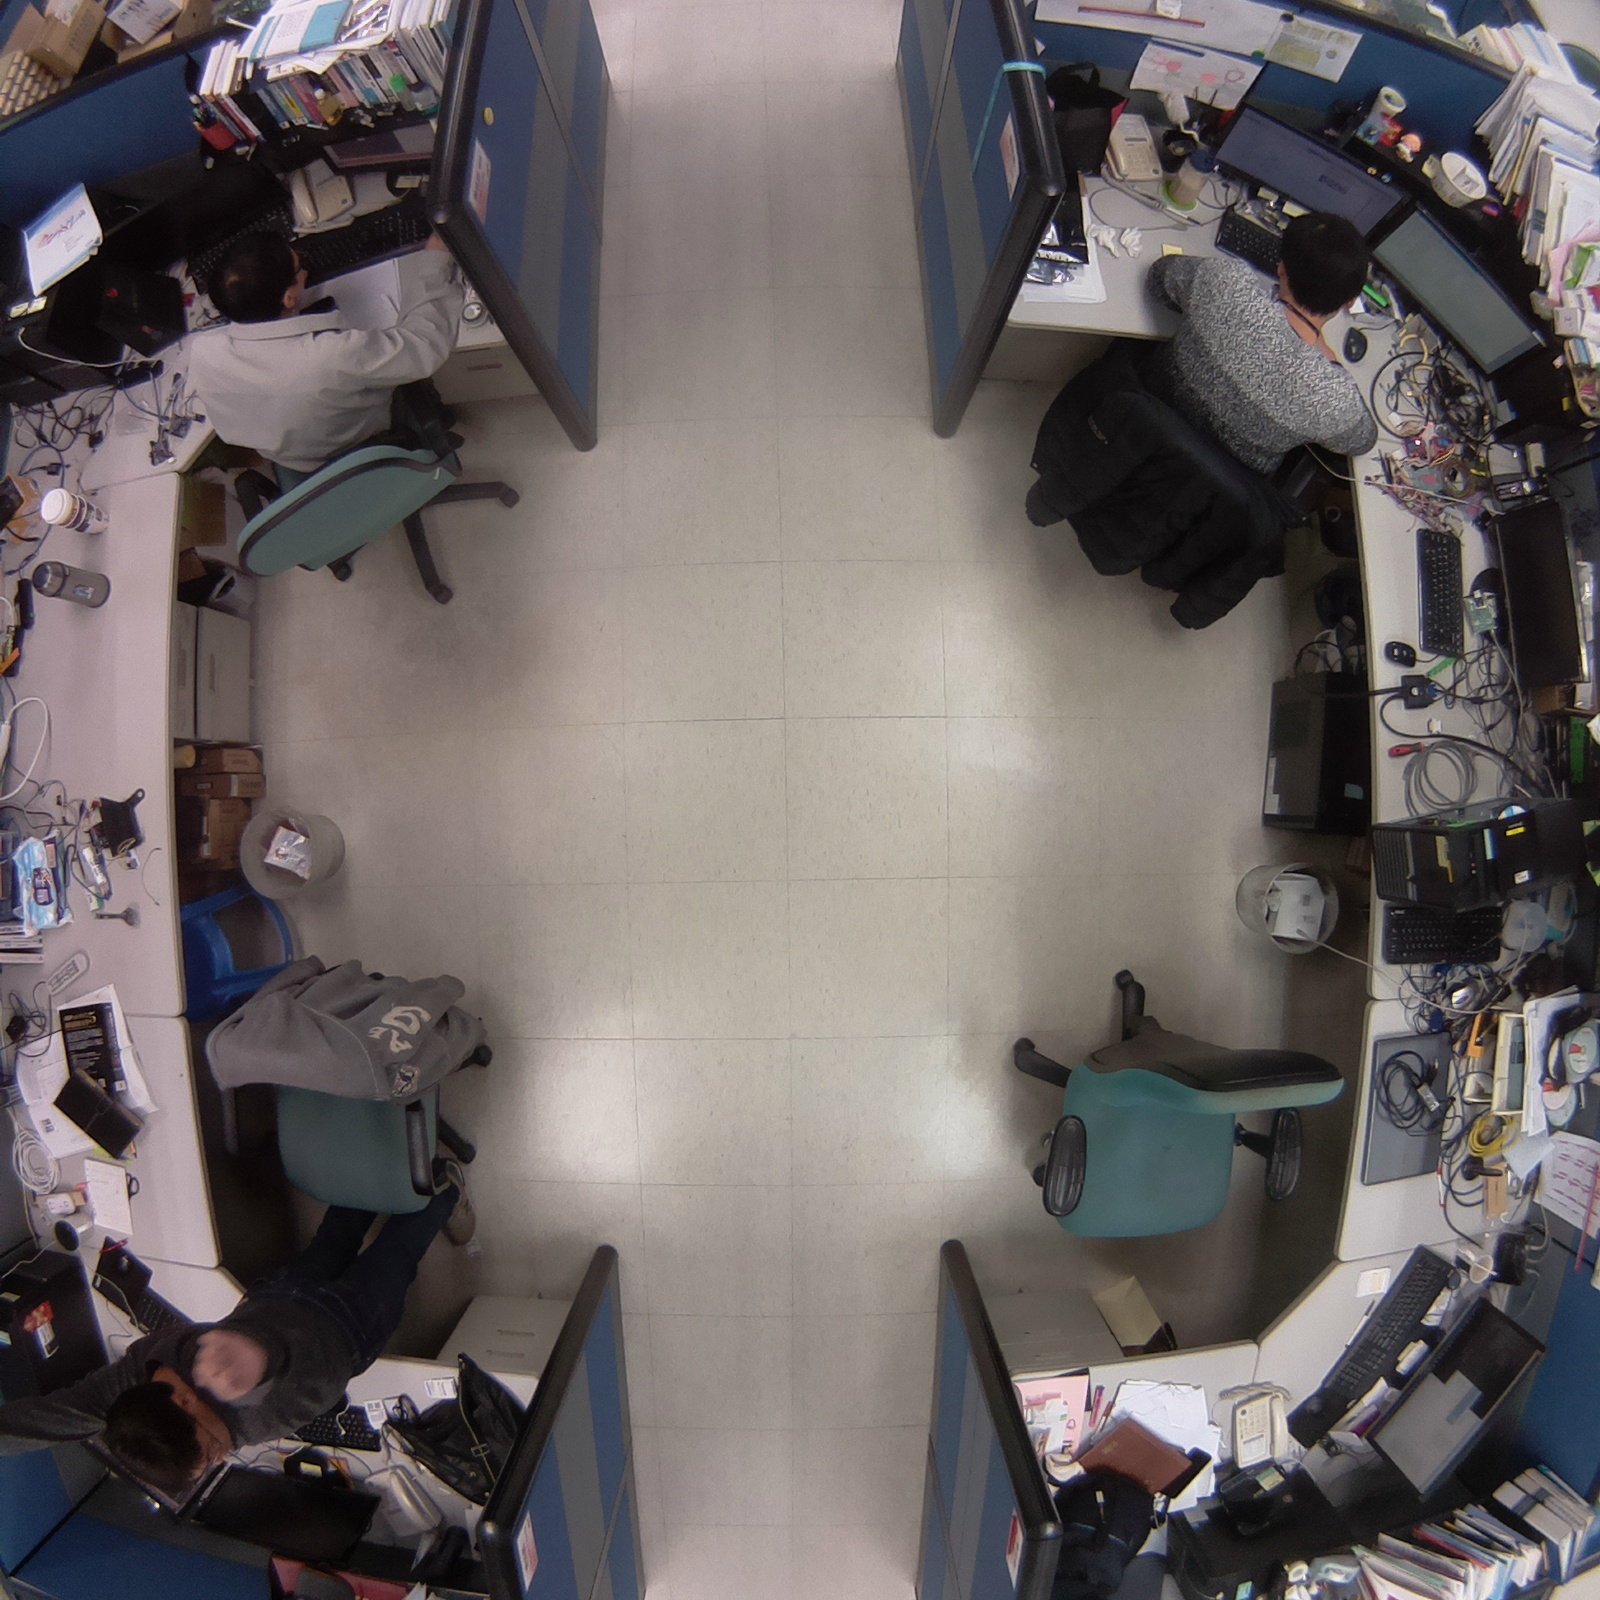chair: (996, 945, 1350, 1260), (188, 955, 537, 1234)
head: (93, 1372, 221, 1500), (200, 217, 312, 327), (1266, 204, 1376, 312)
sitting: (999, 206, 1382, 660), (181, 221, 540, 622), (93, 1163, 494, 1503)
